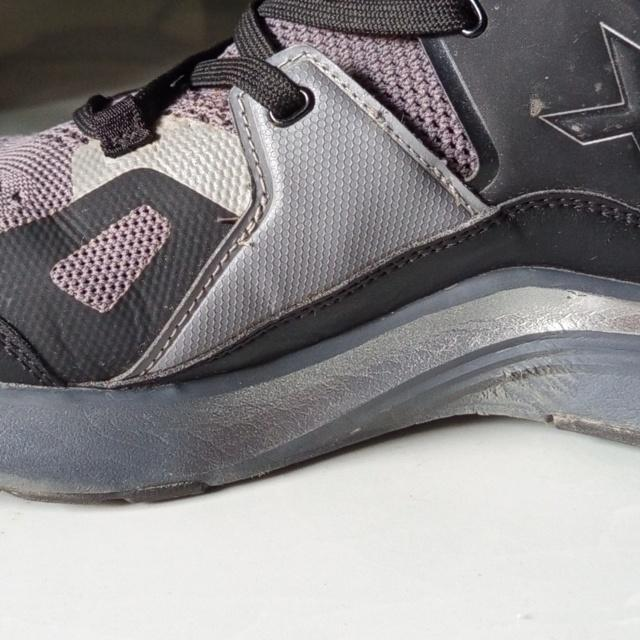broken: (372, 107, 392, 137)
